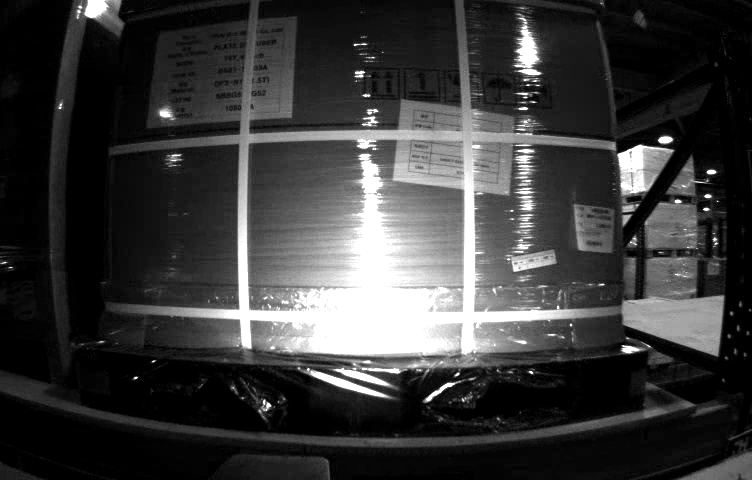True Barcode: (571, 201, 617, 254)
